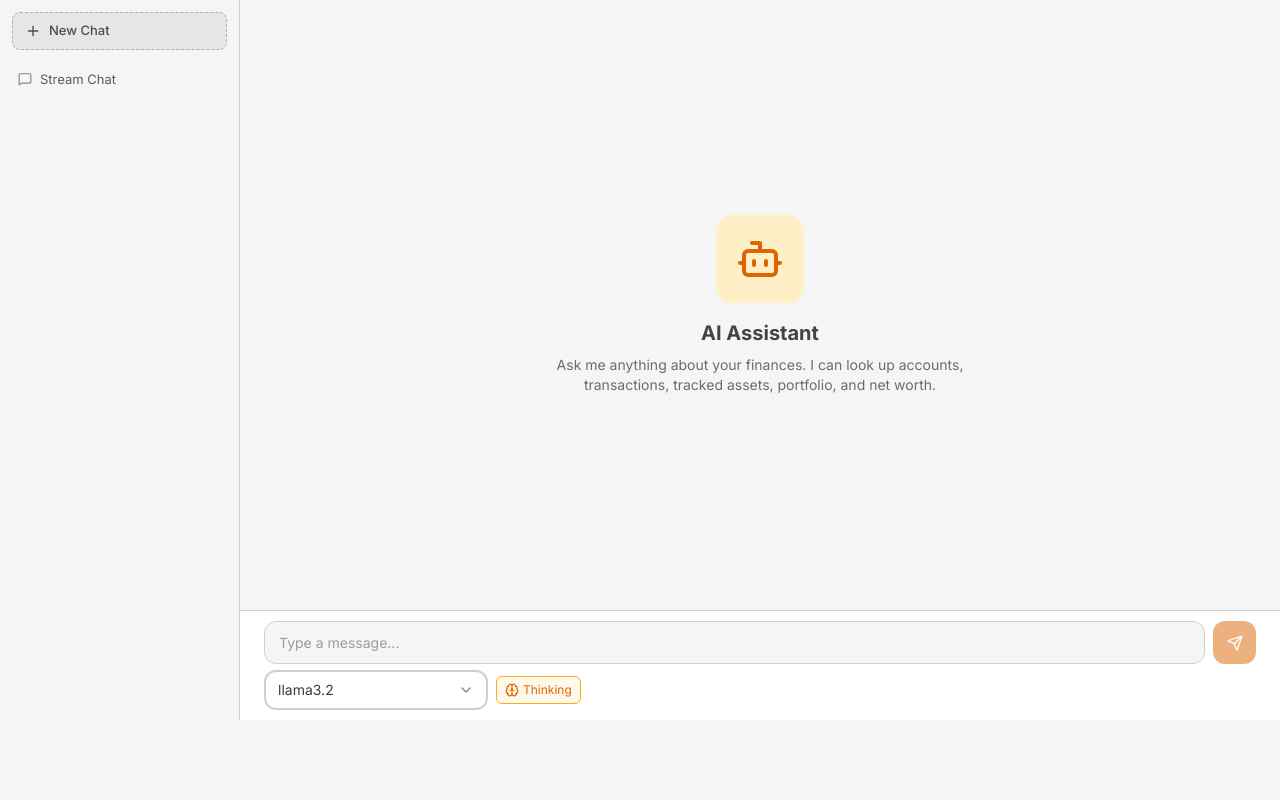
ChatView coverage › shows streaming assistant output from llm-token events
Click the text "Stream Chat" at [78, 78], box top-left (40, 70), bottom-right (116, 86)
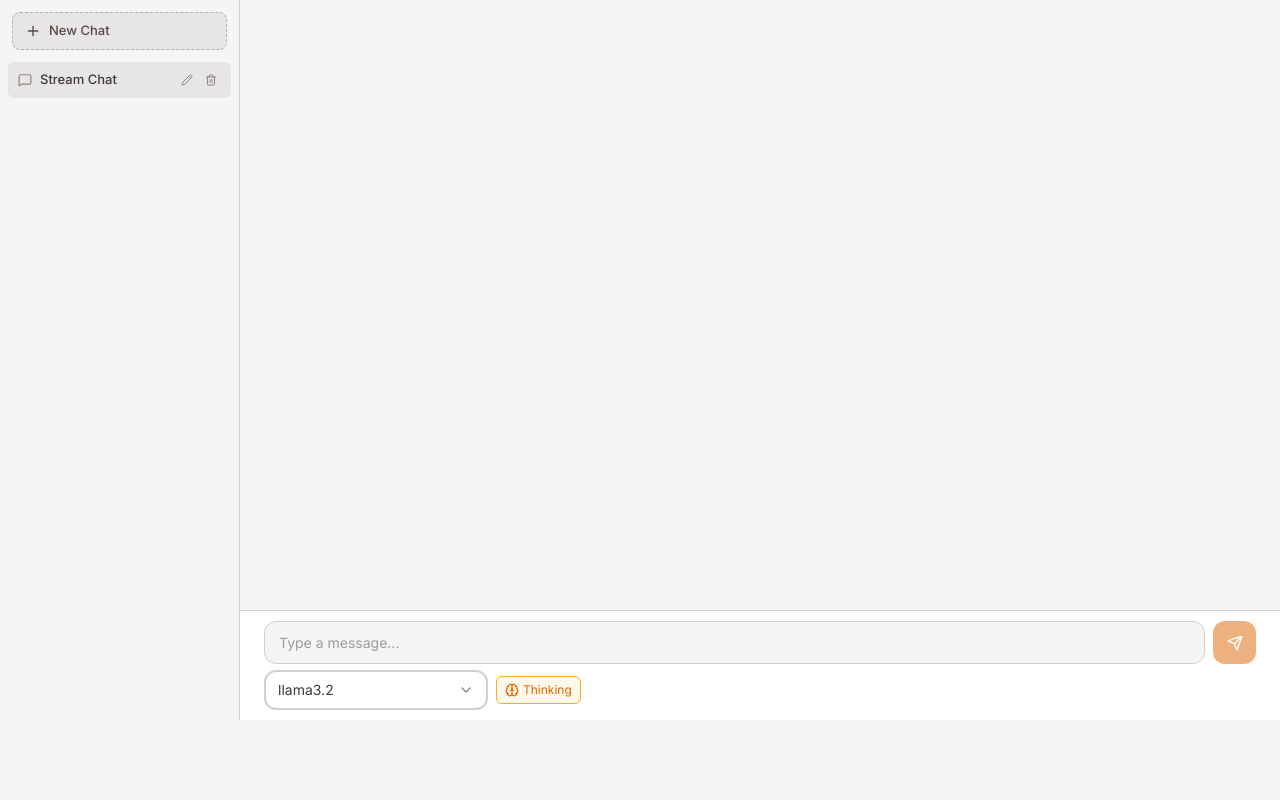
Type "Hello stream" into the text box at [734, 642], box top-left (264, 621), bottom-right (1205, 664)
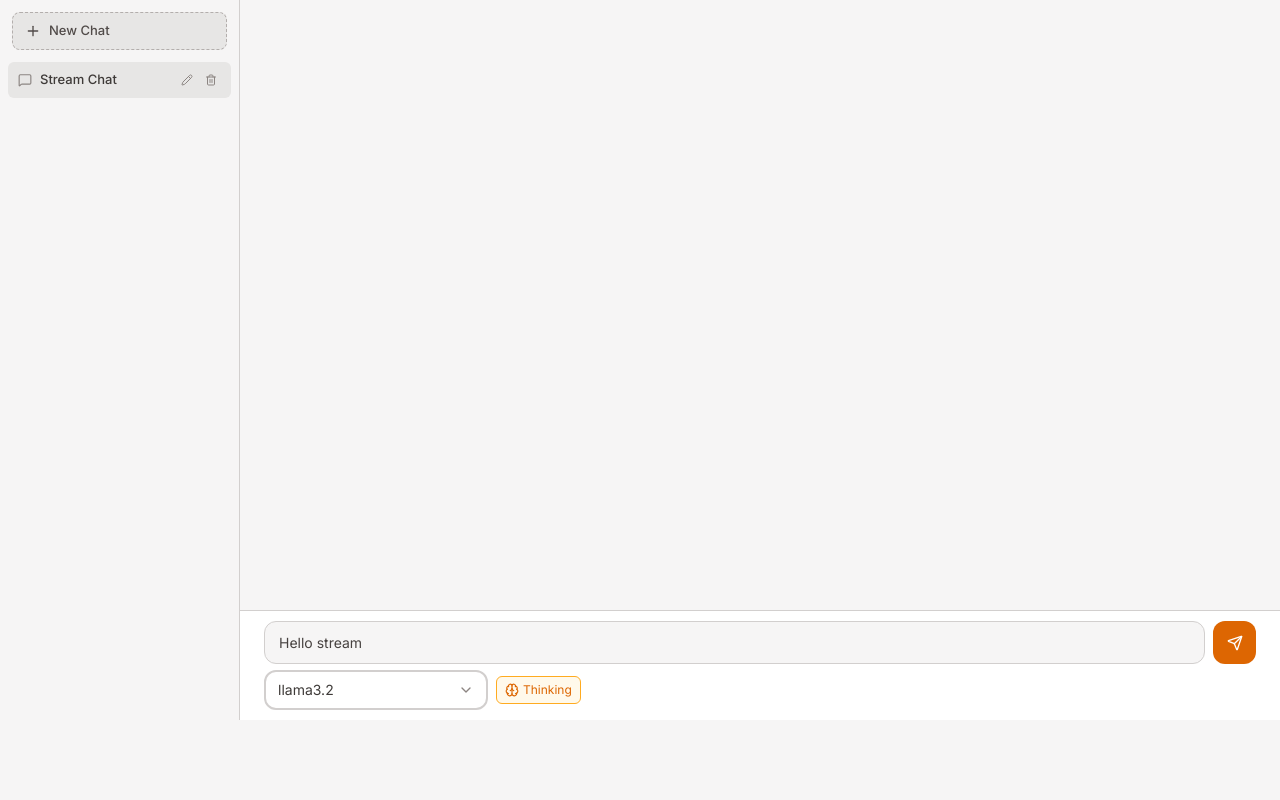
Press Enter in the text box, box top-left (264, 621), bottom-right (1205, 664)
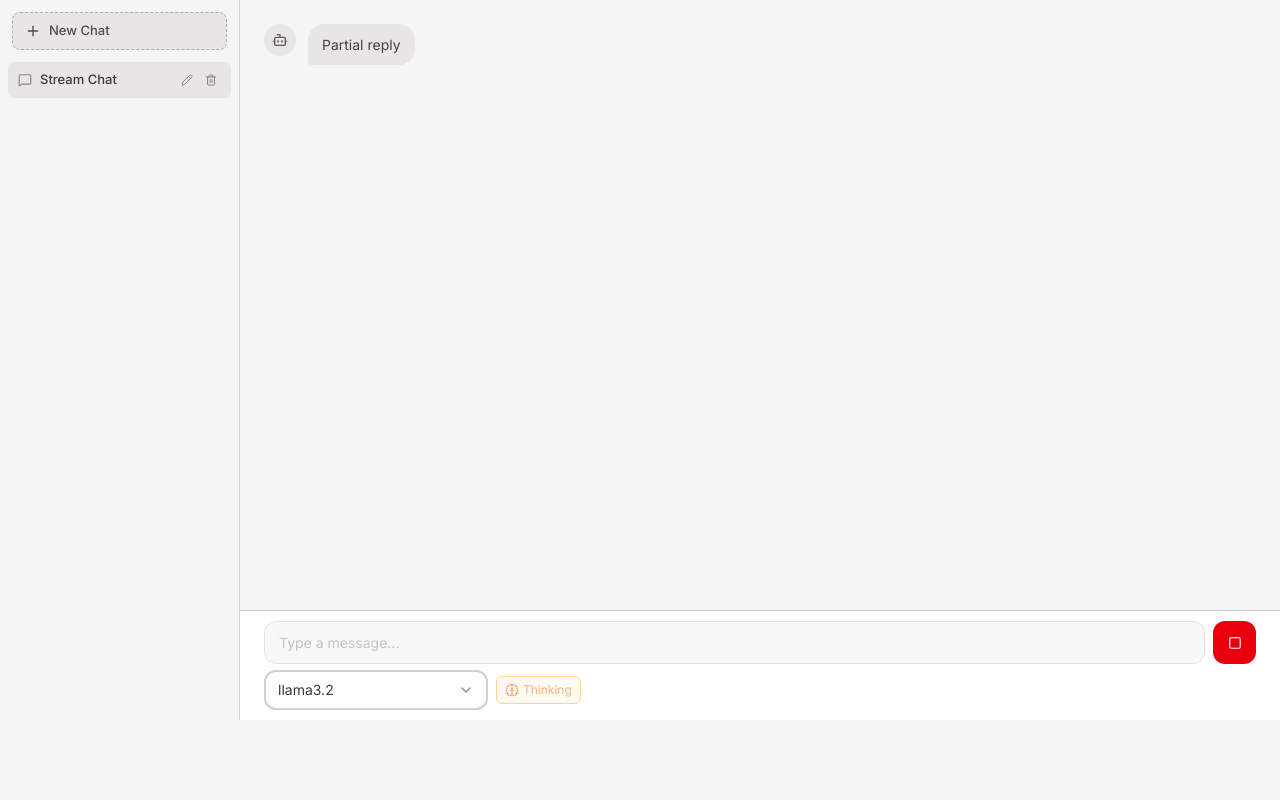
Check: the text "Partial reply" is shown, box top-left (322, 34), bottom-right (401, 55)
